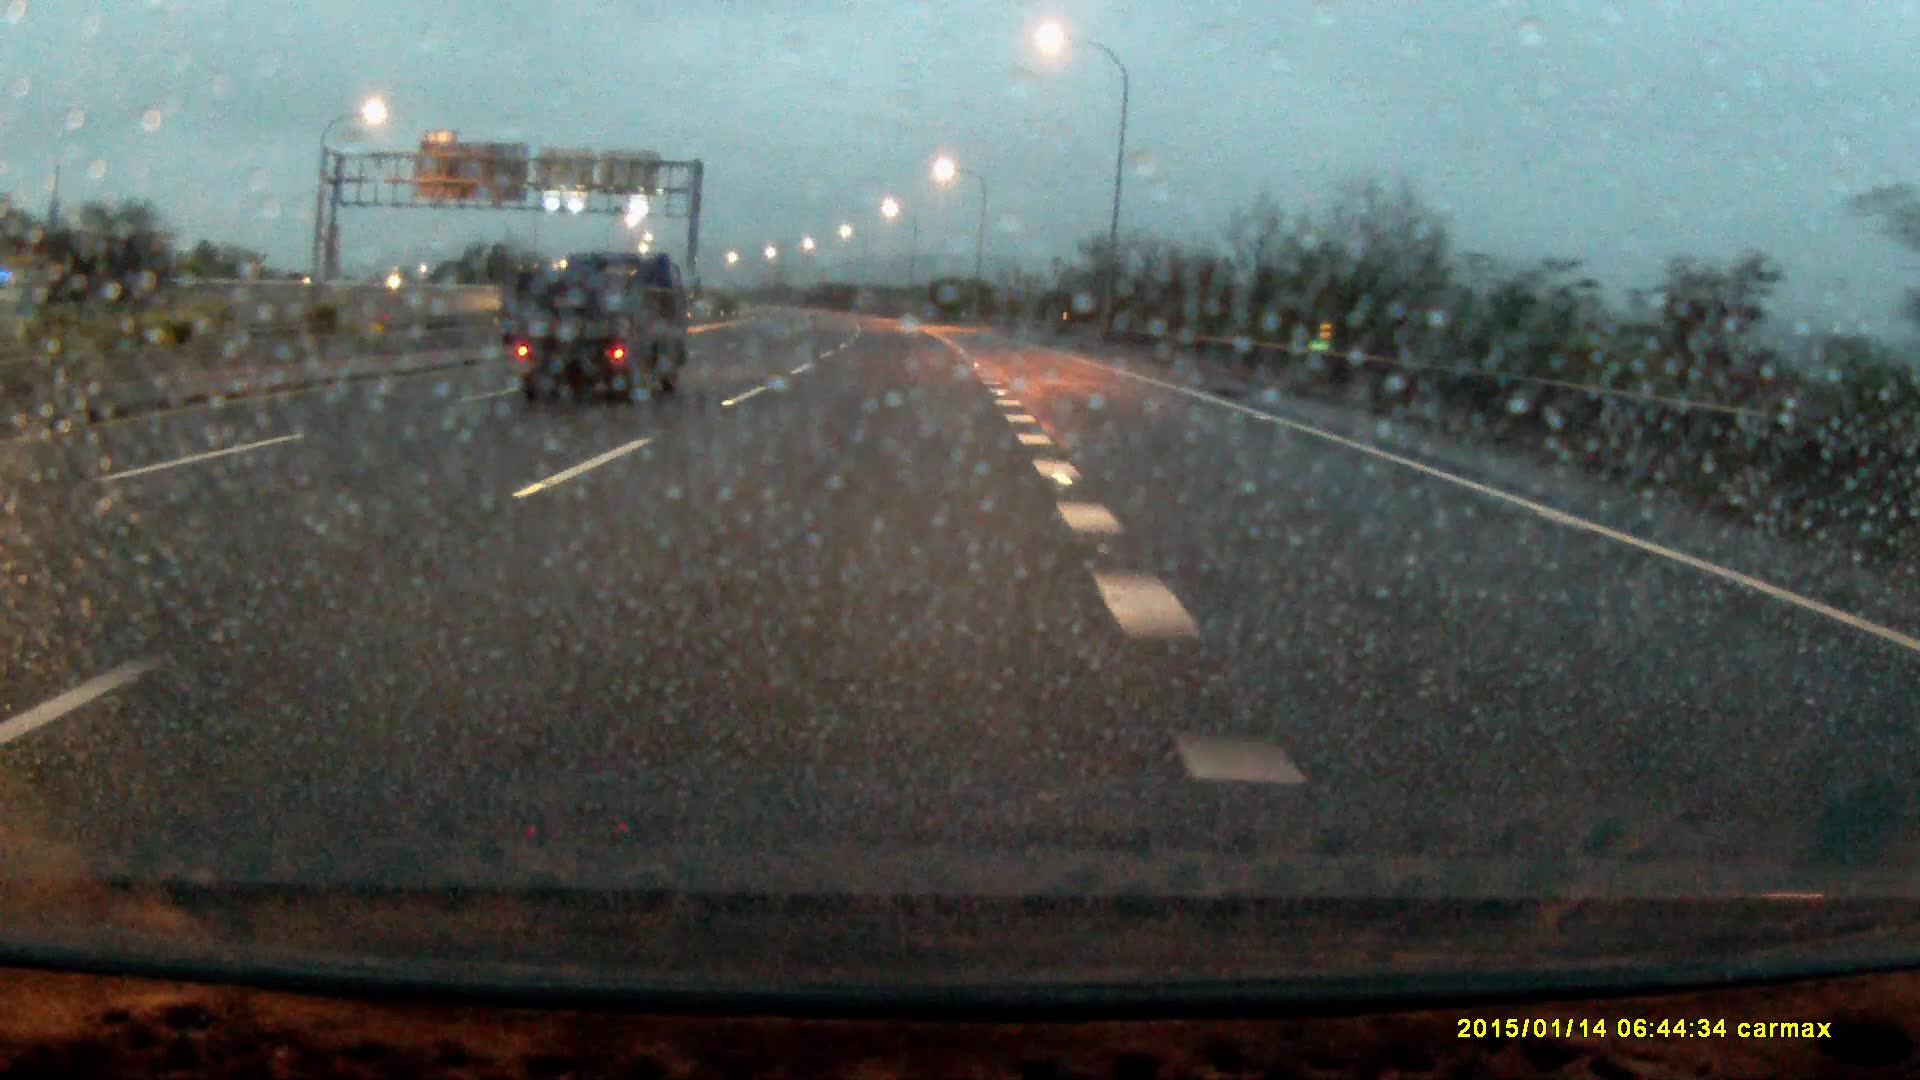vehicle: (504, 251, 694, 406), (1, 229, 175, 320)
